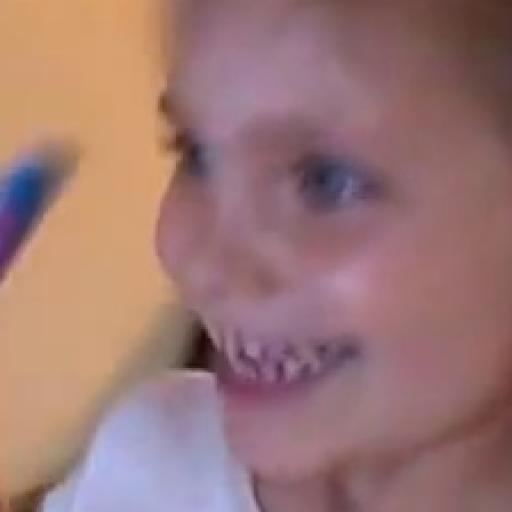Autism: (130, 0, 512, 512)
